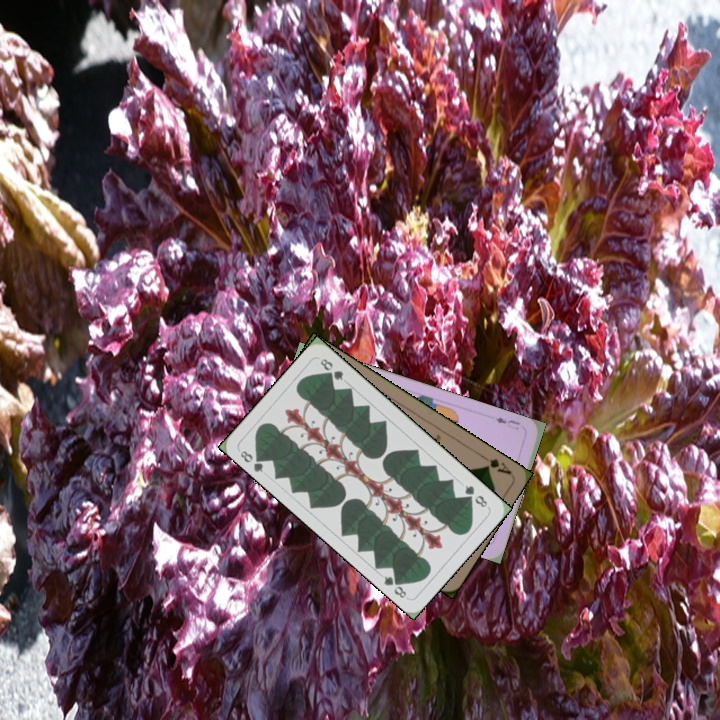EU: (491, 413, 523, 433)
G8: (236, 446, 268, 475), (460, 481, 490, 510)
GA: (477, 451, 514, 477)
